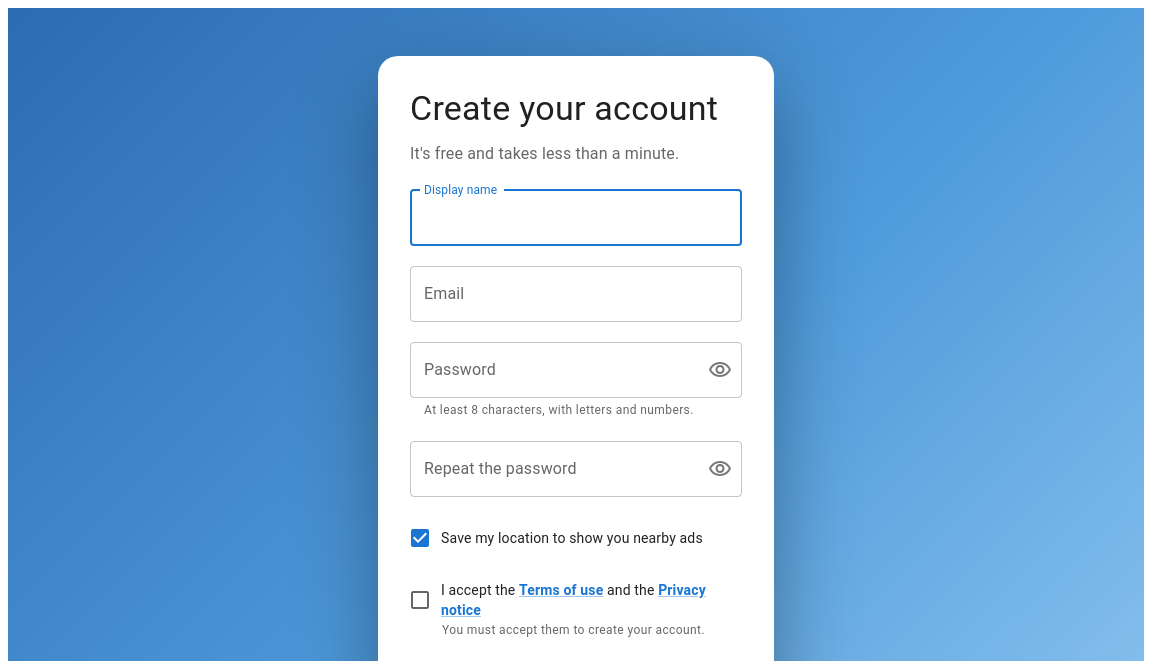
Test: RegisterPage › does not sign up when the two passwords differ, and says so
Later steps or results of the test are not shown.
Type "Ana" into the field labelled "Display name". click: (576, 218)
box: x1=410 y1=190 x2=742 y2=246
Type "ana@mail.com" into the field labelled "Email". click: (576, 294)
box: x1=410 y1=266 x2=742 y2=322
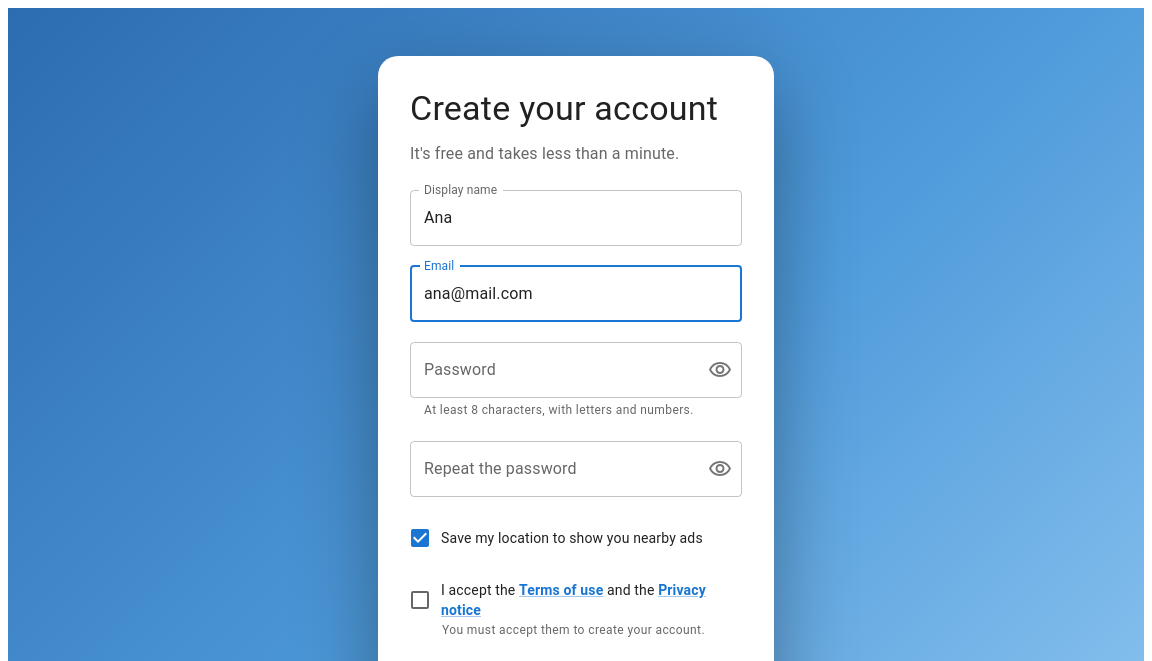
Type "Password1" into the password field labelled "Password". click: (551, 370)
box: x1=410 y1=342 x2=692 y2=398
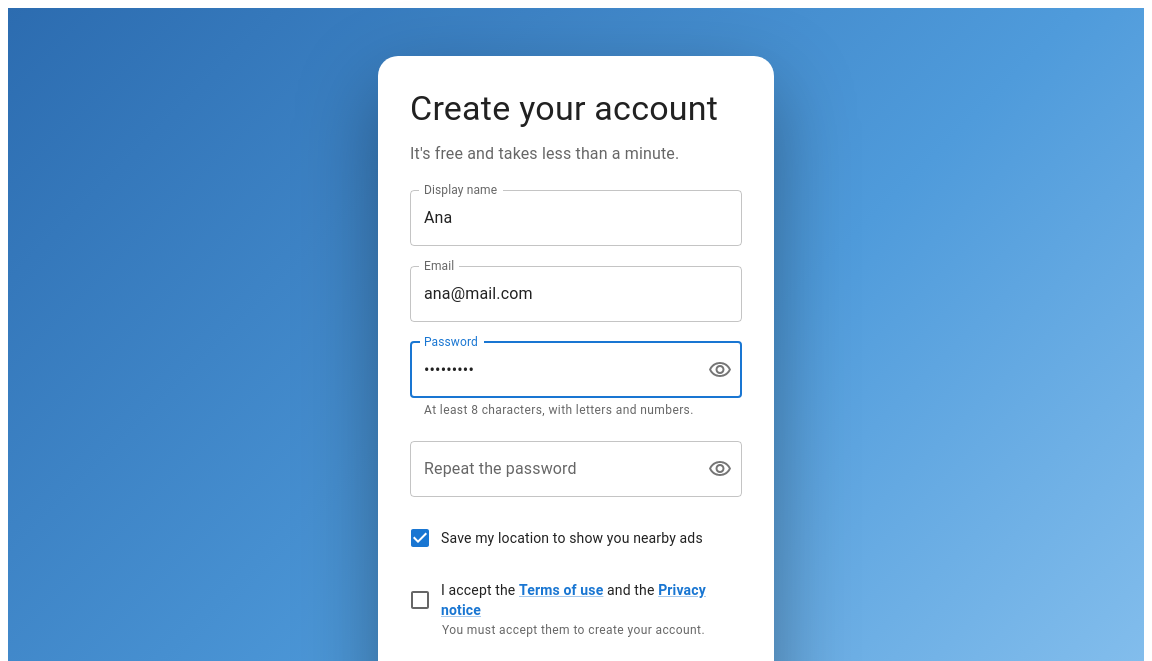
Type "Password1" into the password field labelled "Repeat the password". click: (551, 469)
box: x1=410 y1=441 x2=692 y2=497
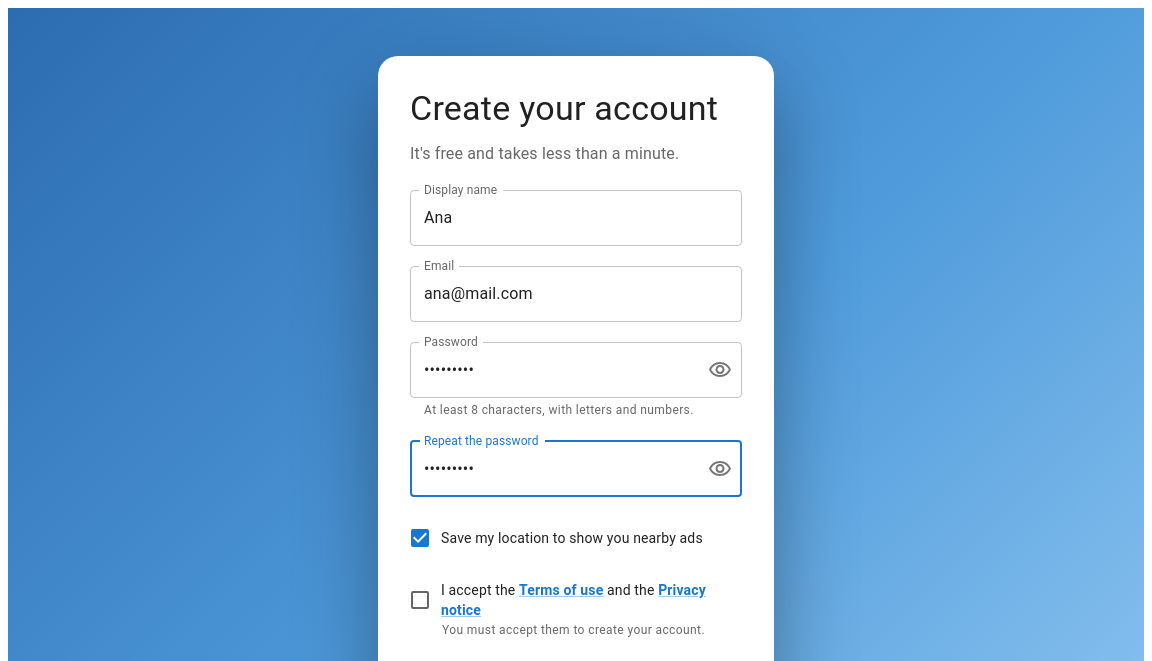
Click the checkbox labelled "Save my location to show you nearby ads". click: click(555, 538)
box: x1=408 y1=526 x2=703 y2=550
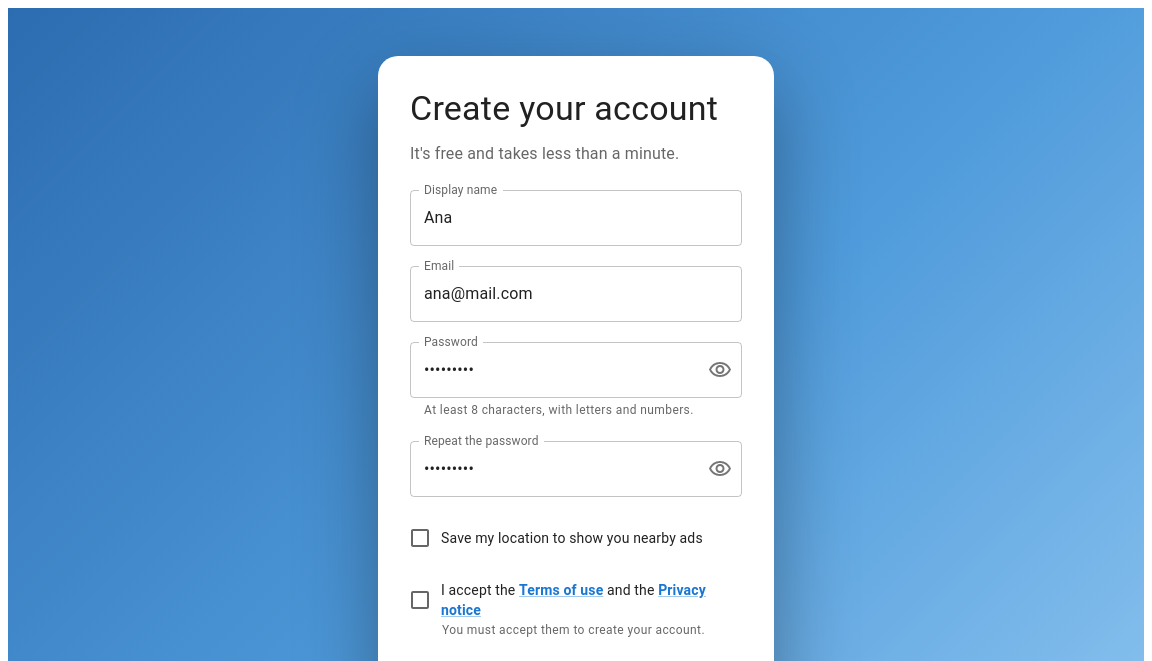
Type "x" into the password field labelled "Repeat the password". click: (551, 469)
box: x1=410 y1=441 x2=692 y2=497
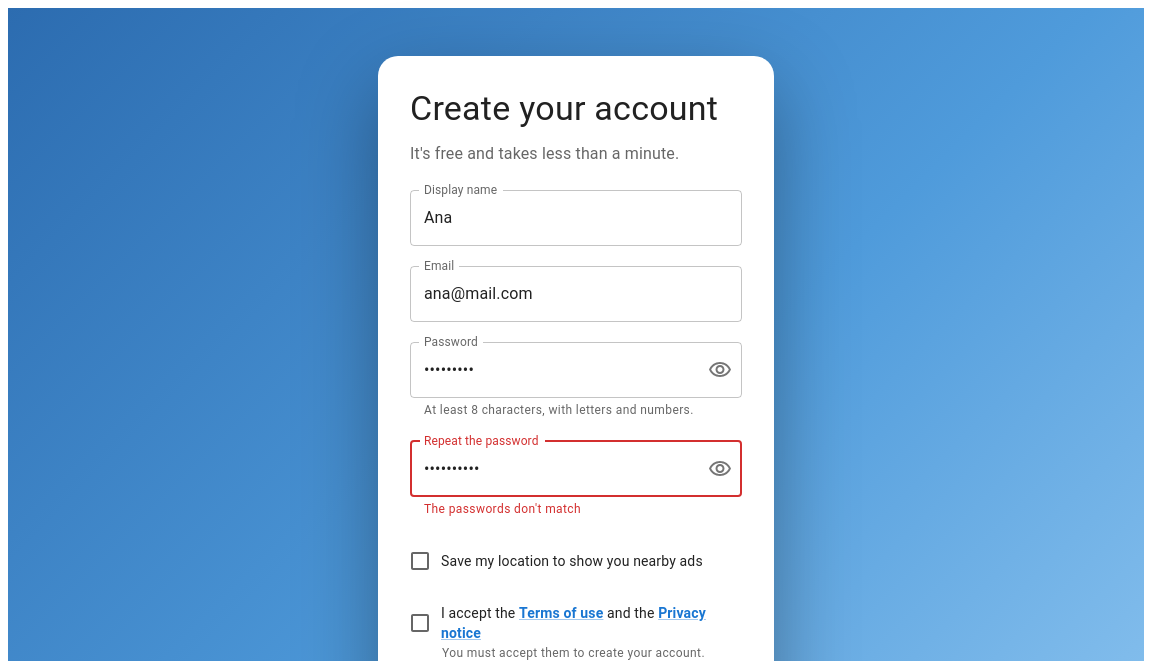
Click the checkbox labelled "I accept the Terms of use and the Privacy notice". click: click(562, 623)
box: x1=399 y1=602 x2=726 y2=644
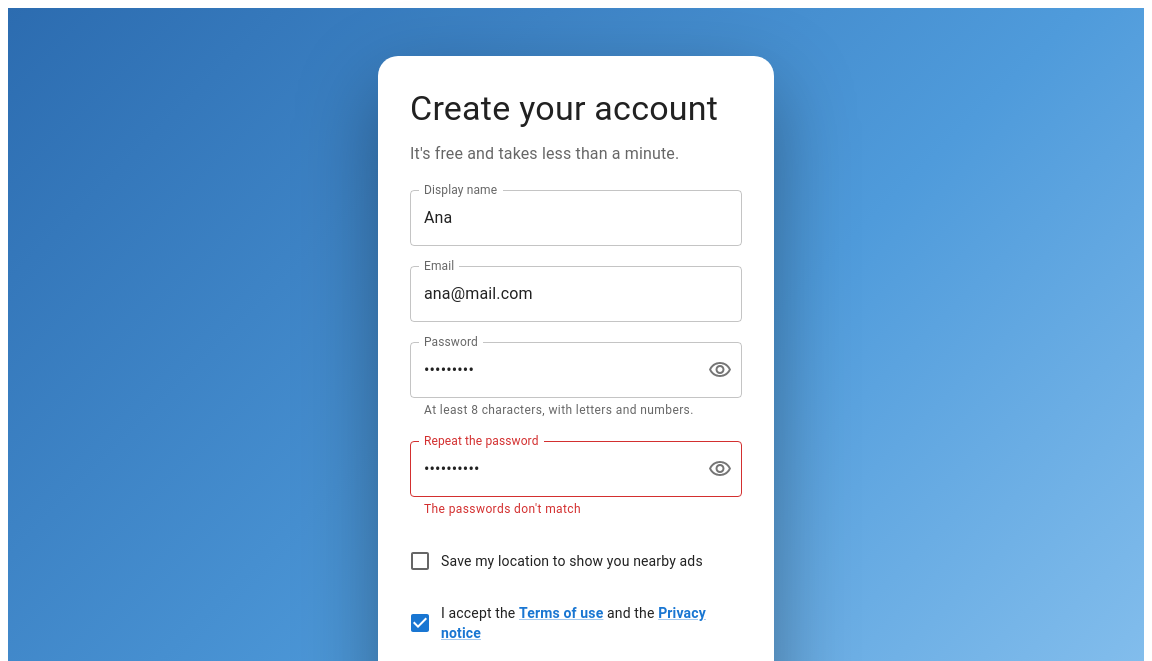
Now the text "The passwords don't match" is shown, box x1=424 y1=502 x2=581 y2=516
